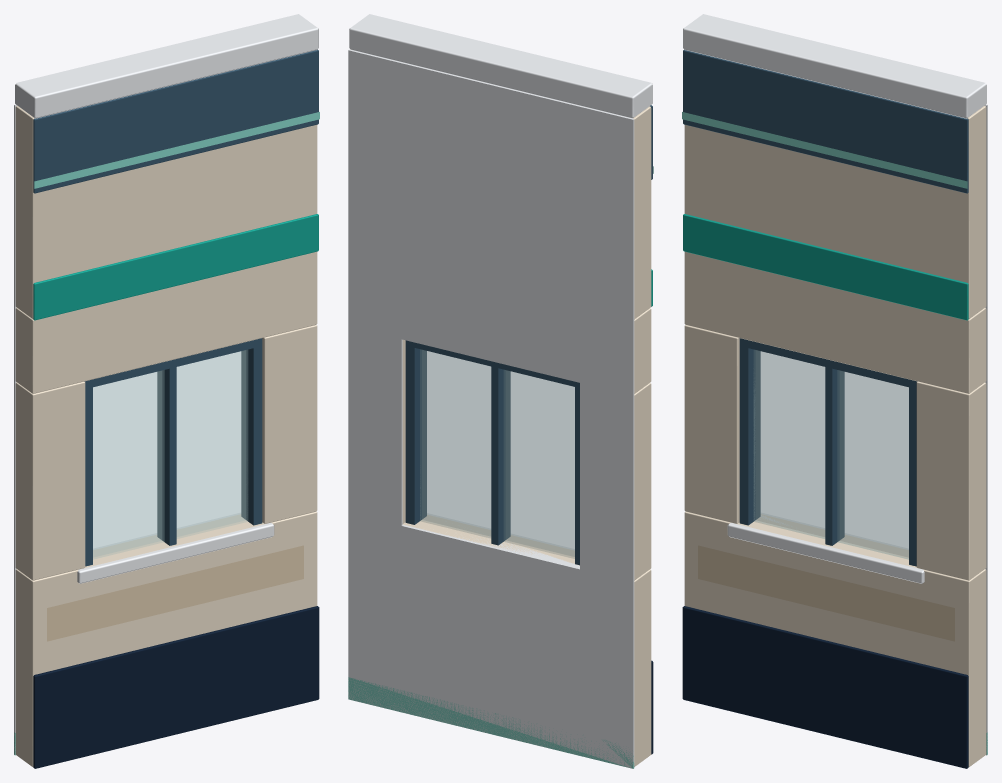
The model's file is CM_Shell_Wall_Window.fbx.
The picture shows the model from 3 angles, left to right: view 1: azimuth 30°, elevation 25°; view 2: azimuth 150°, elevation 25°; view 3: azimuth 330°, elevation 25°; orthographic projection.
Parts seen in each view (by area): view 1: Body, Glass; view 2: Body, Glass; view 3: Body, Glass.
Boxes of the visible parts, x1=… form: Body: x1=14, y1=14, x2=319, y2=768; Glass: x1=93, y1=350, x2=247, y2=559; Body: x1=348, y1=14, x2=653, y2=768; Glass: x1=420, y1=349, x2=574, y2=558; Body: x1=682, y1=14, x2=987, y2=768; Glass: x1=753, y1=350, x2=908, y2=559.
Size of the model in its own units: 8 by 1 by 18.
Materials: 2 (2 with a texture image).
